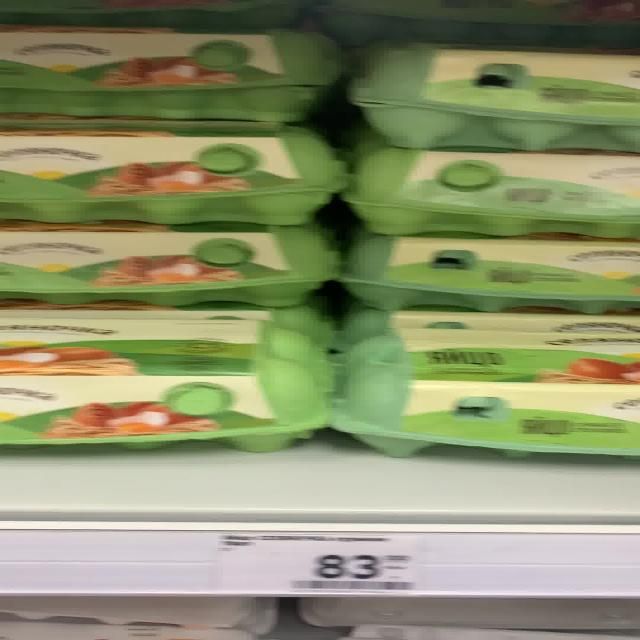egg box: (0, 308, 329, 454), (332, 332, 632, 466), (320, 37, 633, 152), (2, 124, 338, 227), (7, 21, 343, 120), (324, 133, 638, 238), (2, 225, 328, 305), (337, 229, 632, 317)
